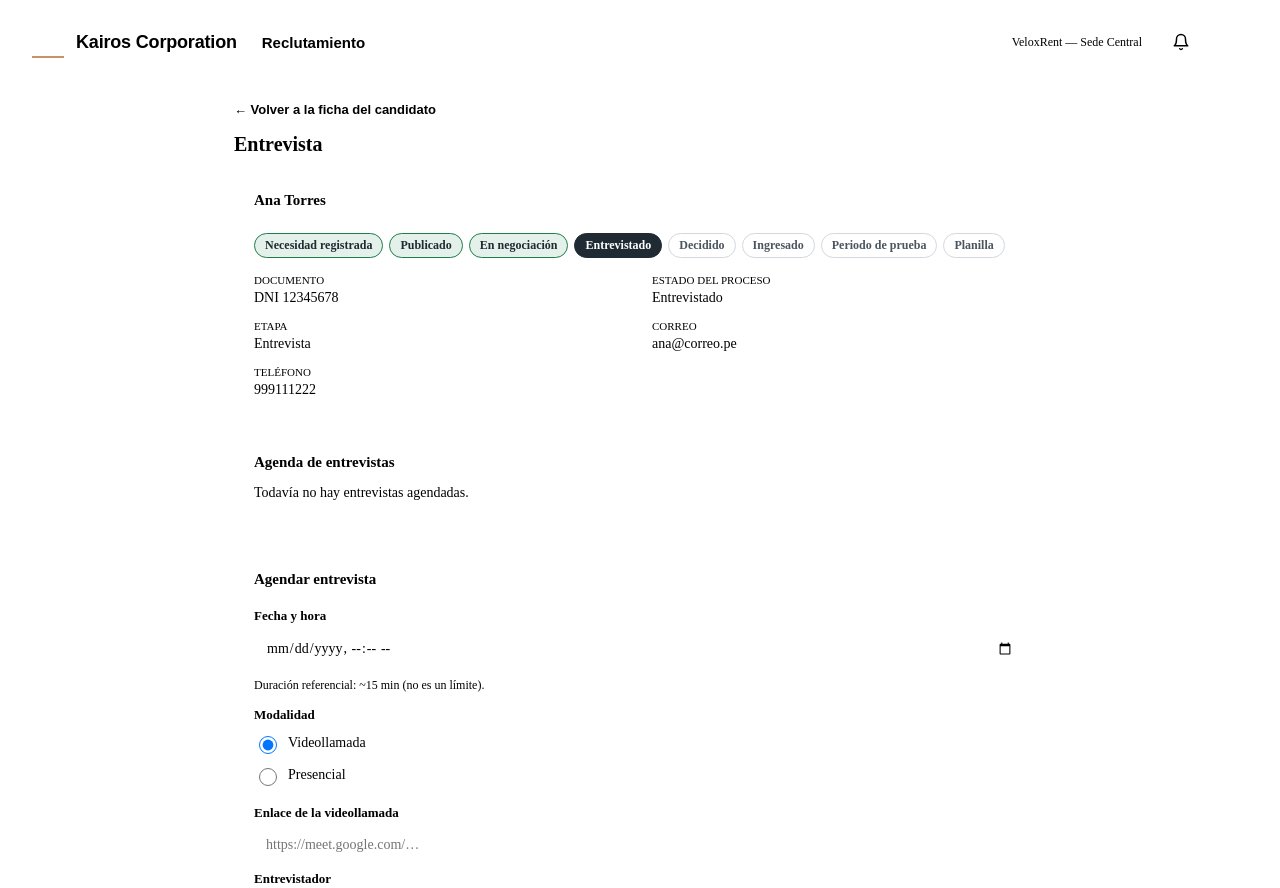
Test: InterviewScreen (REC-05) › presencial pide dirección en lugar del enlace
This screenshot has width=1280, height=888.
Click the radio button labelled "Presencial".
click(268, 776)  # box [259,768,277,786]
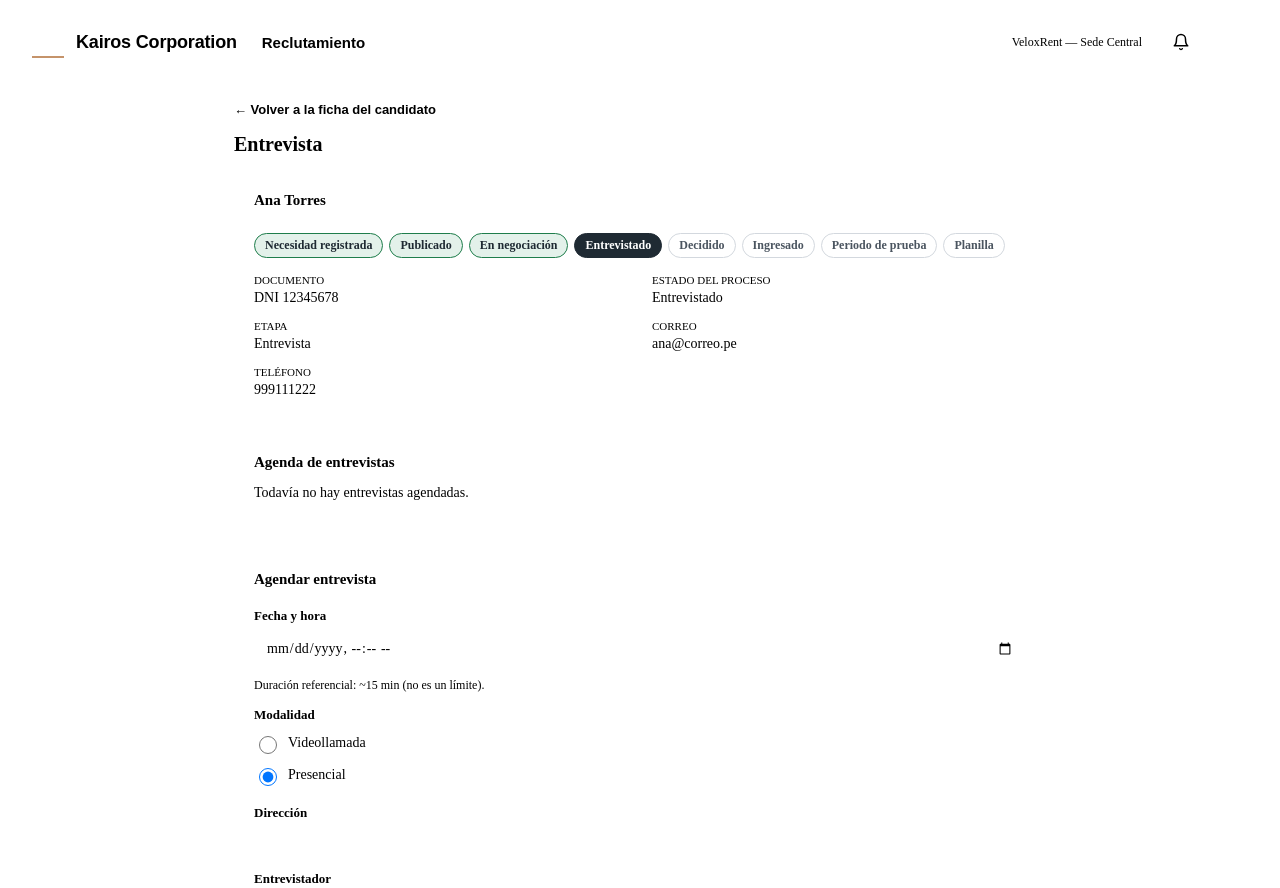
Expected: the label labelled "Enlace de la videollamada" is gone
